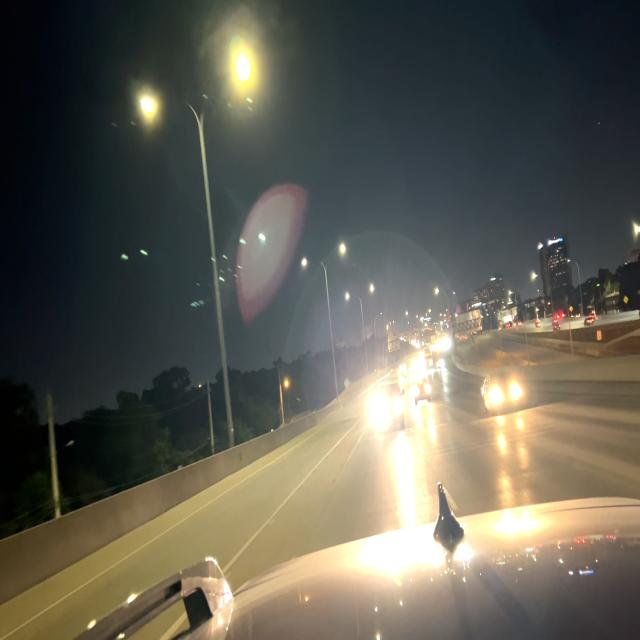back-of-sign: (455, 306, 483, 339)
